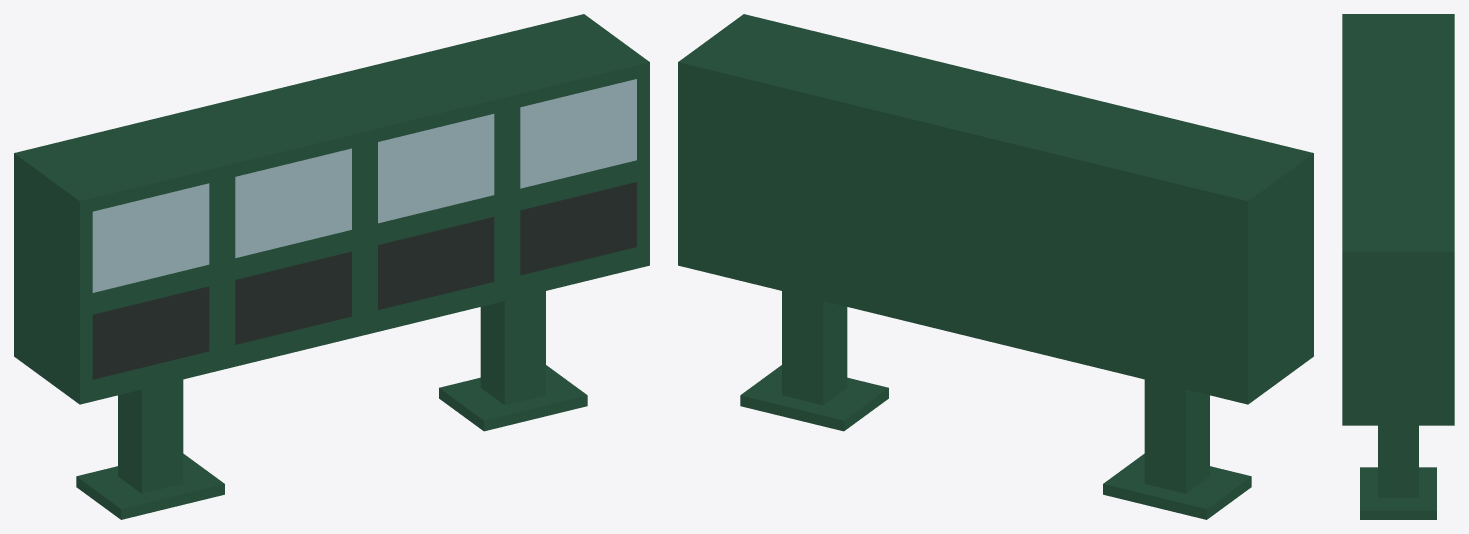
File: sf_newspaper_box.glb
The picture shows the model from 3 angles, left to right: view 1: azimuth 30°, elevation 25°; view 2: azimuth 150°, elevation 25°; view 3: azimuth 270°, elevation 25°; orthographic projection. The views are drawn at different scales.
Parts seen in each view (by area): view 1: sf_newspaper_box; view 2: sf_newspaper_box; view 3: sf_newspaper_box.
Part boxes in pixels (x1,y1,x2,y2): sf_newspaper_box: [14, 14, 649, 519]; sf_newspaper_box: [678, 14, 1313, 519]; sf_newspaper_box: [1342, 14, 1454, 519].
Bounding box in the file's own units: 2.2 × 1.25 × 0.4399.
Materials: 1 (1 with a texture image).
